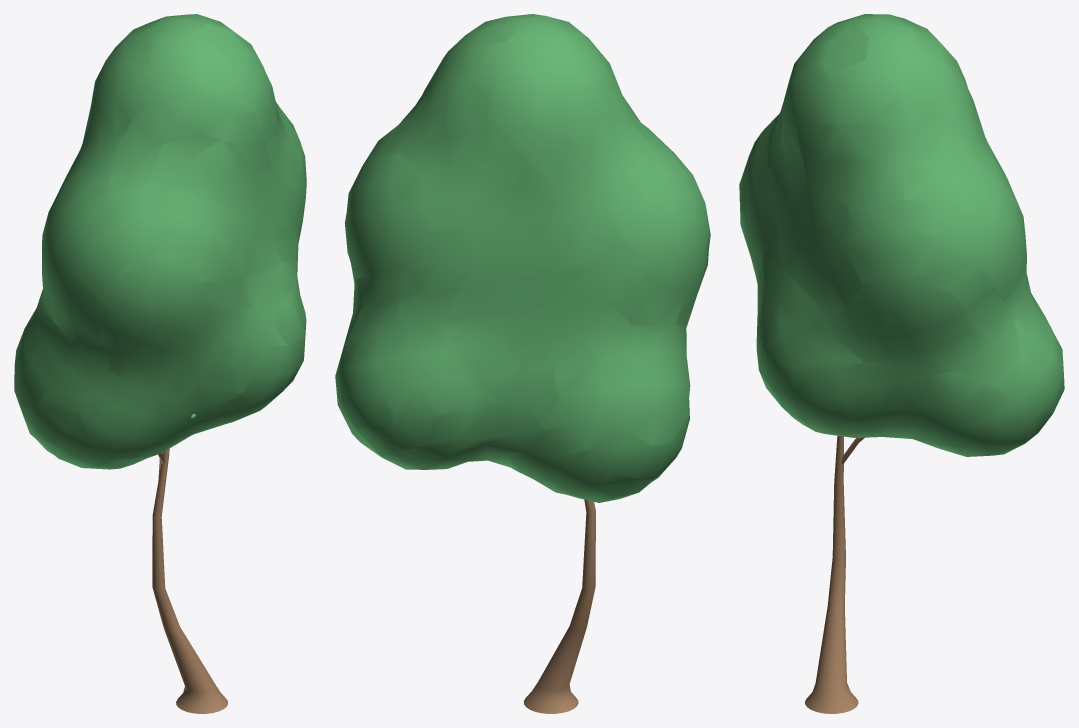
File: Cartoon_Trees_Pack_Tree_7.glb
3 renders of one model, left to right at view 1: azimuth 30°, elevation 25°; view 2: azimuth 150°, elevation 25°; view 3: azimuth 270°, elevation 25°, orthographic. The views are drawn at different scales.
Visible parts, largest first — view 1: 02_Leaves, 01_Trunk; view 2: 02_Leaves, 01_Trunk; view 3: 02_Leaves, 01_Trunk.
Part boxes in pixels (left/top/right/bottom): 02_Leaves: left=14, top=14, right=306, bottom=469; 01_Trunk: left=152, top=448, right=228, bottom=713; 02_Leaves: left=335, top=14, right=710, bottom=502; 01_Trunk: left=523, top=499, right=595, bottom=713; 02_Leaves: left=739, top=14, right=1064, bottom=456; 01_Trunk: left=805, top=435, right=864, bottom=713.
Bounding box in the file's own units: 4.53 × 10 × 4.31.
